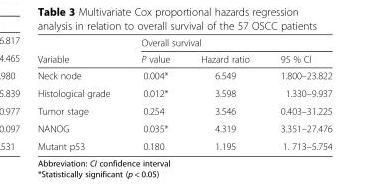table: (36, 36, 331, 151)
table column: (36, 36, 124, 151), (184, 36, 264, 151), (264, 36, 331, 151), (124, 36, 184, 151)
table column header: (36, 36, 331, 66)
table row: (36, 66, 331, 84), (36, 101, 331, 119), (36, 119, 331, 137), (36, 84, 331, 101), (36, 50, 331, 66), (36, 36, 331, 50), (36, 137, 331, 151)
table spanning cell: (124, 36, 331, 50), (36, 36, 124, 66)
